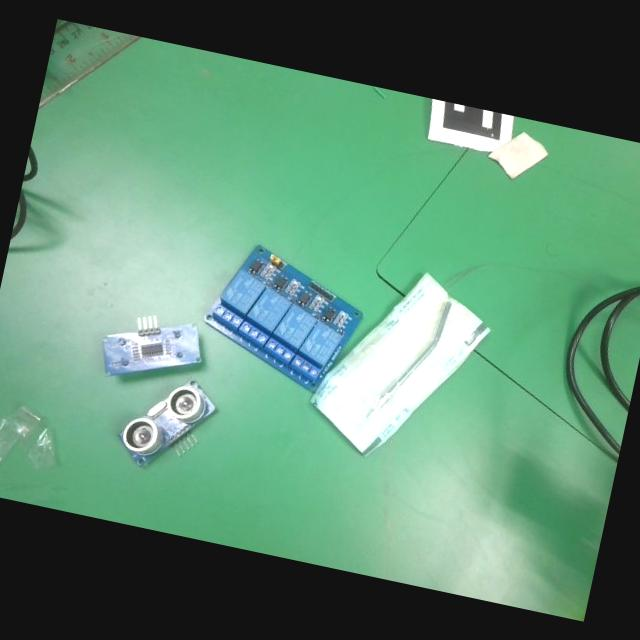relay_module: (193, 235, 373, 399)
triple_syringe: (302, 254, 499, 476)
ultrasonic_hc-sr04: (111, 366, 220, 478), (94, 305, 208, 394)
